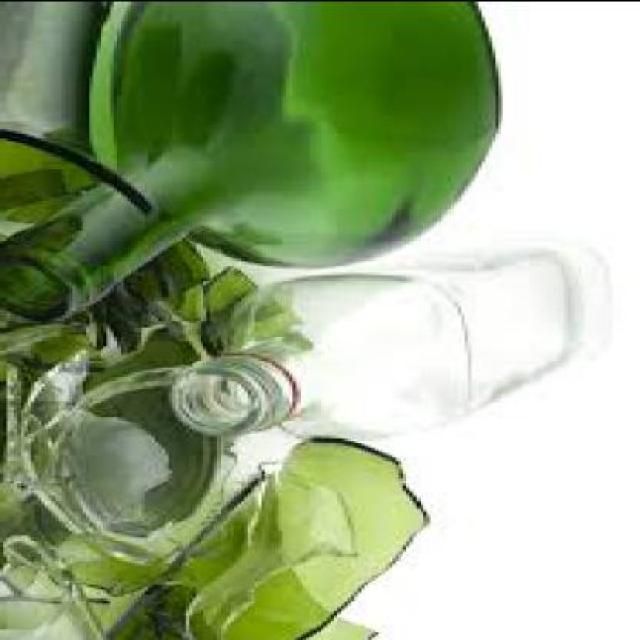GLASS: (3, 2, 503, 318), (4, 120, 238, 578), (169, 232, 616, 440), (82, 434, 433, 638), (186, 461, 365, 630), (28, 403, 172, 525), (4, 529, 71, 606), (317, 610, 378, 638)
